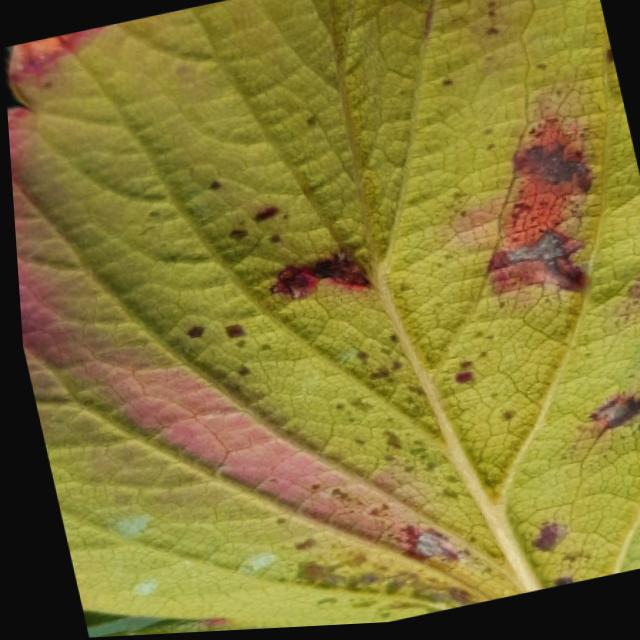Angular Leafspot: (5, 0, 640, 632)
